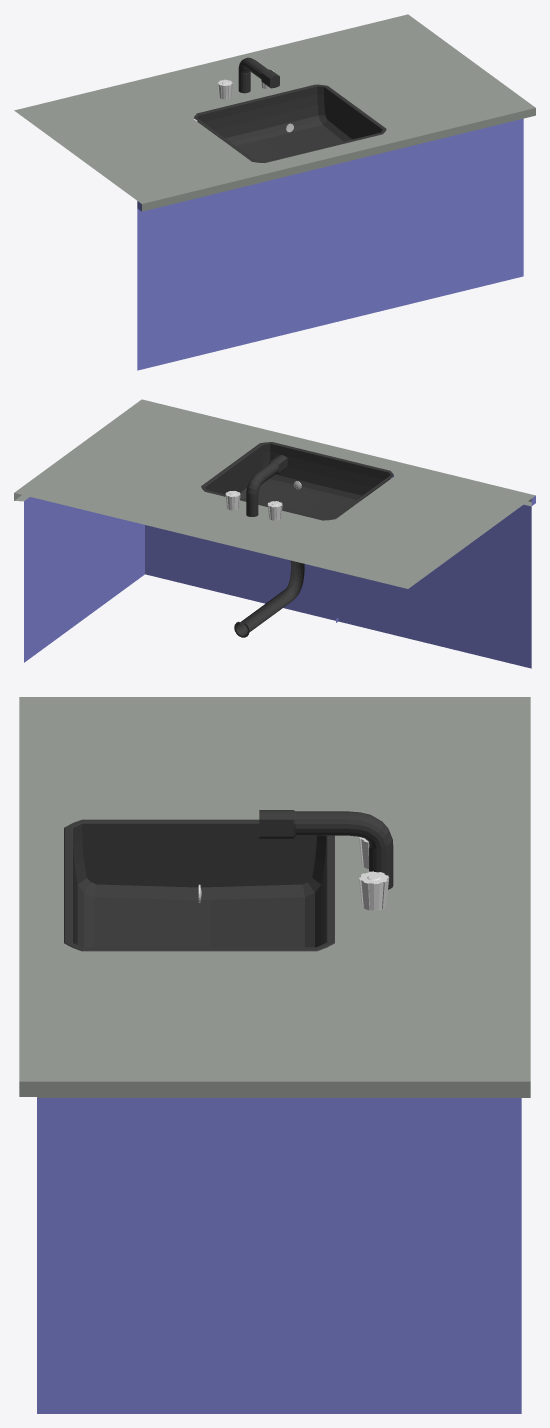
The model's file is Shield.fbx.
The picture shows the model from 3 angles, top to bottom: view 1: azimuth 30°, elevation 25°; view 2: azimuth 150°, elevation 25°; view 3: azimuth 270°, elevation 25°; orthographic projection. The views are drawn at different scales.
Parts seen in each view (by area): view 1: Cube; view 2: Cube; view 3: Cube.
Boxes of the visible parts, <box> form: Cube: <box>14,14,535,370</box>; Cube: <box>14,399,535,668</box>; Cube: <box>19,697,530,1413</box>.
Size of the model in its own units: 10200 by 5119 by 5730.
